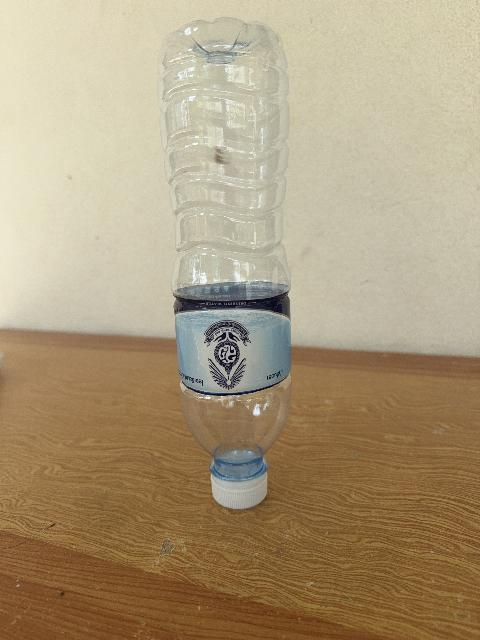bottle: (159, 18, 290, 508)
